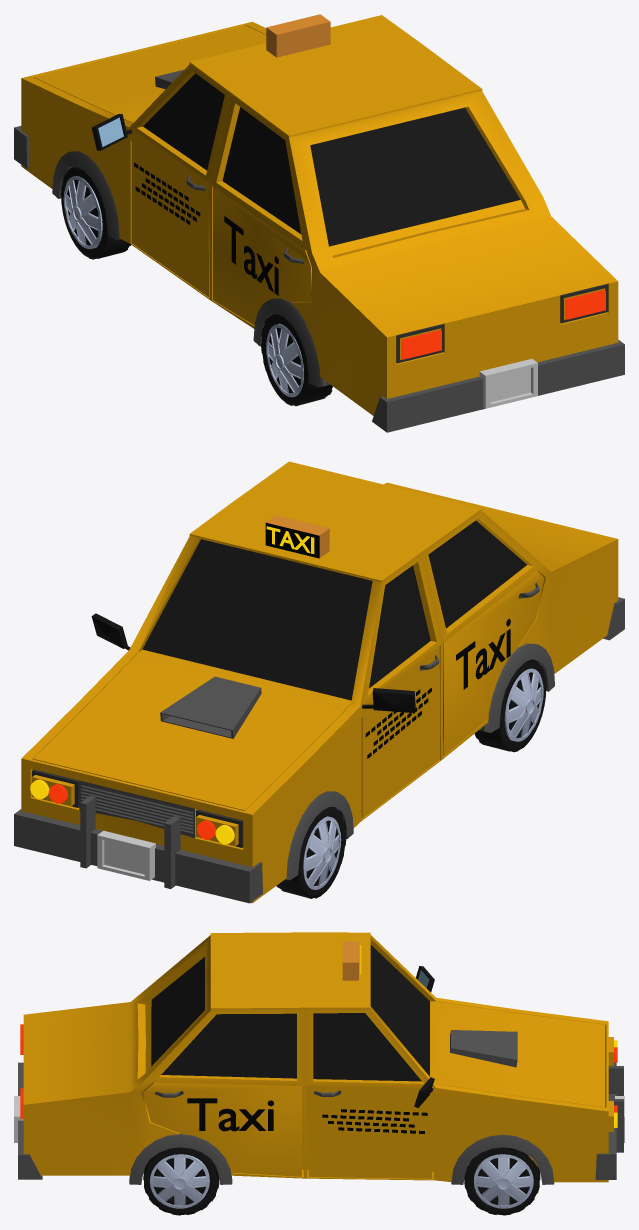
Rendered from Car_Basic_4.glb.
3 views of the same model, one above another, from view 1: azimuth 30°, elevation 25°; view 2: azimuth 150°, elevation 25°; view 3: azimuth 270°, elevation 25° (orthographic). The views are drawn at different scales.
Parts seen in each view (by area): view 1: 2.005, Cube.2793, Cylinder.2614, Cylinder.2618, Cylinder.2613, Cube.2788, Cube.2784, Text.070, Cube.2786; view 2: 2.005, Cube.2792, Cylinder.2614, Cube.2782, Cylinder.2618, Cylinder.2613, Cube.2789, Cube.2784, Cube.2786, Text.070, Cube.2791, Cube.2790 (+2 smaller); view 3: 2.005, Cylinder.2614, Cylinder.2618, Cylinder.2613, Cube.2782, Text.071, Cube.2793, Cube.2792, Cube.2784, Cube.2786, Cube.2791, Cube.2790.
Boxes of the visible parts, bbox=[...] form: 2.005: bbox=[21, 15, 618, 415]; Cube.2793: bbox=[372, 340, 624, 432]; Cylinder.2614: bbox=[63, 176, 303, 397]; Cylinder.2618: bbox=[61, 167, 332, 406]; Cylinder.2613: bbox=[52, 151, 329, 387]; Cube.2788: bbox=[479, 359, 537, 408]; Cube.2784: bbox=[266, 14, 330, 57]; Text.070: bbox=[224, 216, 278, 295]; Cube.2786: bbox=[91, 114, 127, 150]; 2.005: bbox=[21, 461, 618, 903]; Cube.2792: bbox=[14, 809, 262, 903]; Cylinder.2614: bbox=[303, 668, 543, 889]; Cube.2782: bbox=[160, 676, 261, 738]; Cylinder.2618: bbox=[276, 659, 546, 898]; Cylinder.2613: bbox=[285, 643, 554, 880]; Cube.2789: bbox=[97, 830, 155, 880]; Cube.2784: bbox=[265, 515, 329, 558]; Cube.2786: bbox=[91, 613, 415, 713]; Text.070: bbox=[456, 618, 510, 689]; Cube.2791: bbox=[164, 816, 181, 888]; Cube.2790: bbox=[80, 796, 96, 868]; 2.005: bbox=[20, 932, 613, 1182]; Cylinder.2614: bbox=[150, 1154, 533, 1208]; Cylinder.2618: bbox=[143, 1147, 540, 1215]; Cylinder.2613: bbox=[129, 1133, 554, 1184]; Cube.2782: bbox=[450, 1030, 517, 1067]; Text.071: bbox=[187, 1098, 273, 1131]; Cube.2793: bbox=[18, 1062, 42, 1179]; Cube.2792: bbox=[595, 1062, 616, 1179]; Cube.2784: bbox=[342, 941, 358, 980]; Cube.2786: bbox=[414, 966, 434, 1107]; Cube.2791: bbox=[608, 1066, 623, 1095]; Cube.2790: bbox=[608, 1099, 623, 1152].
Size of the model in its own units: 2.33 by 1.88 by 4.78.
